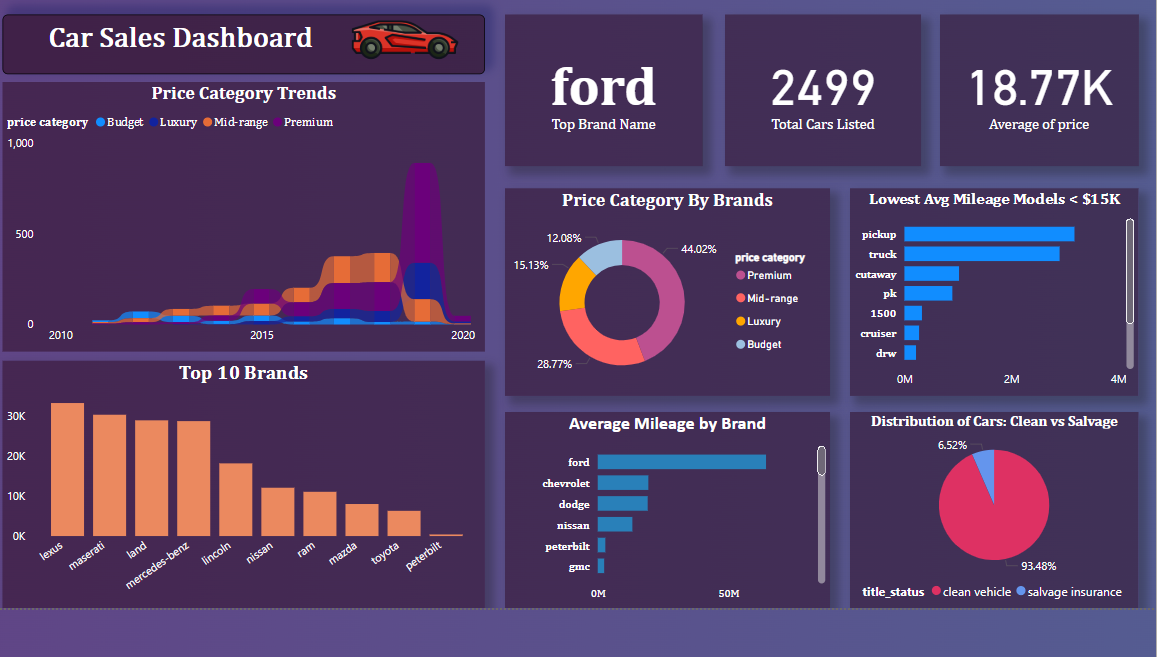

What the dashboard file says about the page in this screenshot:
{"tool":"powerbi","page":{"name":"Page 1","canvas":[1280,720],"ordinal":0},"visuals":[{"type":"textbox","box":[13.7,68.6,529.7,65.9],"z":0},{"type":"image","box":[392.5,22,126.2,149.6],"z":1000},{"type":"clusteredColumnChart","title":"Top 10 Brands","fields":{"Category":["USA_cars_datasets.brand"],"Y":["Avg(USA_cars_datasets.price)"]},"box":[13.7,448.7,529.7,271.7],"z":2000},{"type":"donutChart","title":"Price Category By Brands","fields":{"Category":["USA_cars_datasets.price category"],"Y":["CountNonNull(USA_cars_datasets.brand)"]},"box":[565.4,259.3,356.8,227.8],"z":3000},{"type":"clusteredBarChart","title":" Average Mileage by Brand","fields":{"Y":["Sum(USA_cars_datasets.mileage)"],"Category":["USA_cars_datasets.brand"]},"box":[565.4,505,356.8,215.4],"z":4000},{"type":"ribbonChart","title":"Price Category Trends ","fields":{"Y":["CountNonNull(USA_cars_datasets.price)"],"Category":["USA_cars_datasets.year"],"Series":["USA_cars_datasets.price category"]},"box":[13.7,142.7,529.7,296.4],"z":5000},{"type":"clusteredBarChart","title":"Lowest Avg Mileage Models < $15K","fields":{"Category":["USA_cars_datasets.model"],"Y":["Sum(USA_cars_datasets.Avg Mileage Under 15k)"]},"box":[944.1,259.3,317,227.8],"z":6000},{"type":"card","fields":{"Values":["USA_cars_datasets.Top Brand Name"]},"box":[565.4,68.6,216.8,166],"z":7000},{"type":"card","fields":{"Values":["CountNonNull(USA_cars_datasets.price)"]},"box":[806.9,68.6,215.4,166],"z":8000},{"type":"card","fields":{"Values":["Avg(USA_cars_datasets.price)"]},"box":[1042.9,68.6,218.2,166],"z":9000},{"type":"pieChart","title":"Distribution of Cars: Clean vs Salvage","fields":{"Category":["USA_cars_datasets.title_status"],"Y":["CountNonNull(USA_cars_datasets.vin)"]},"box":[944.1,505,317,215.4],"z":10000}]}

Visuals, with their boxes in screenshot pixels (x1, y1, x2, y2), scaled from the page's 1280x720 canvas onto the 1157x657 screenshot:
textbox: x1=12 y1=63 x2=491 y2=123
image: x1=355 y1=20 x2=469 y2=157
"Top 10 Brands" clusteredColumnChart: x1=12 y1=409 x2=491 y2=656
"Price Category By Brands" donutChart: x1=511 y1=237 x2=834 y2=444
" Average Mileage by Brand" clusteredBarChart: x1=511 y1=461 x2=834 y2=656
"Price Category Trends " ribbonChart: x1=12 y1=130 x2=491 y2=401
"Lowest Avg Mileage Models < $15K" clusteredBarChart: x1=853 y1=237 x2=1140 y2=444
card - USA_cars_datasets.Top Brand Name: x1=511 y1=63 x2=707 y2=214
card - CountNonNull(USA_cars_datasets.price): x1=729 y1=63 x2=924 y2=214
card - Avg(USA_cars_datasets.price): x1=943 y1=63 x2=1140 y2=214
"Distribution of Cars: Clean vs Salvage" pieChart: x1=853 y1=461 x2=1140 y2=656
